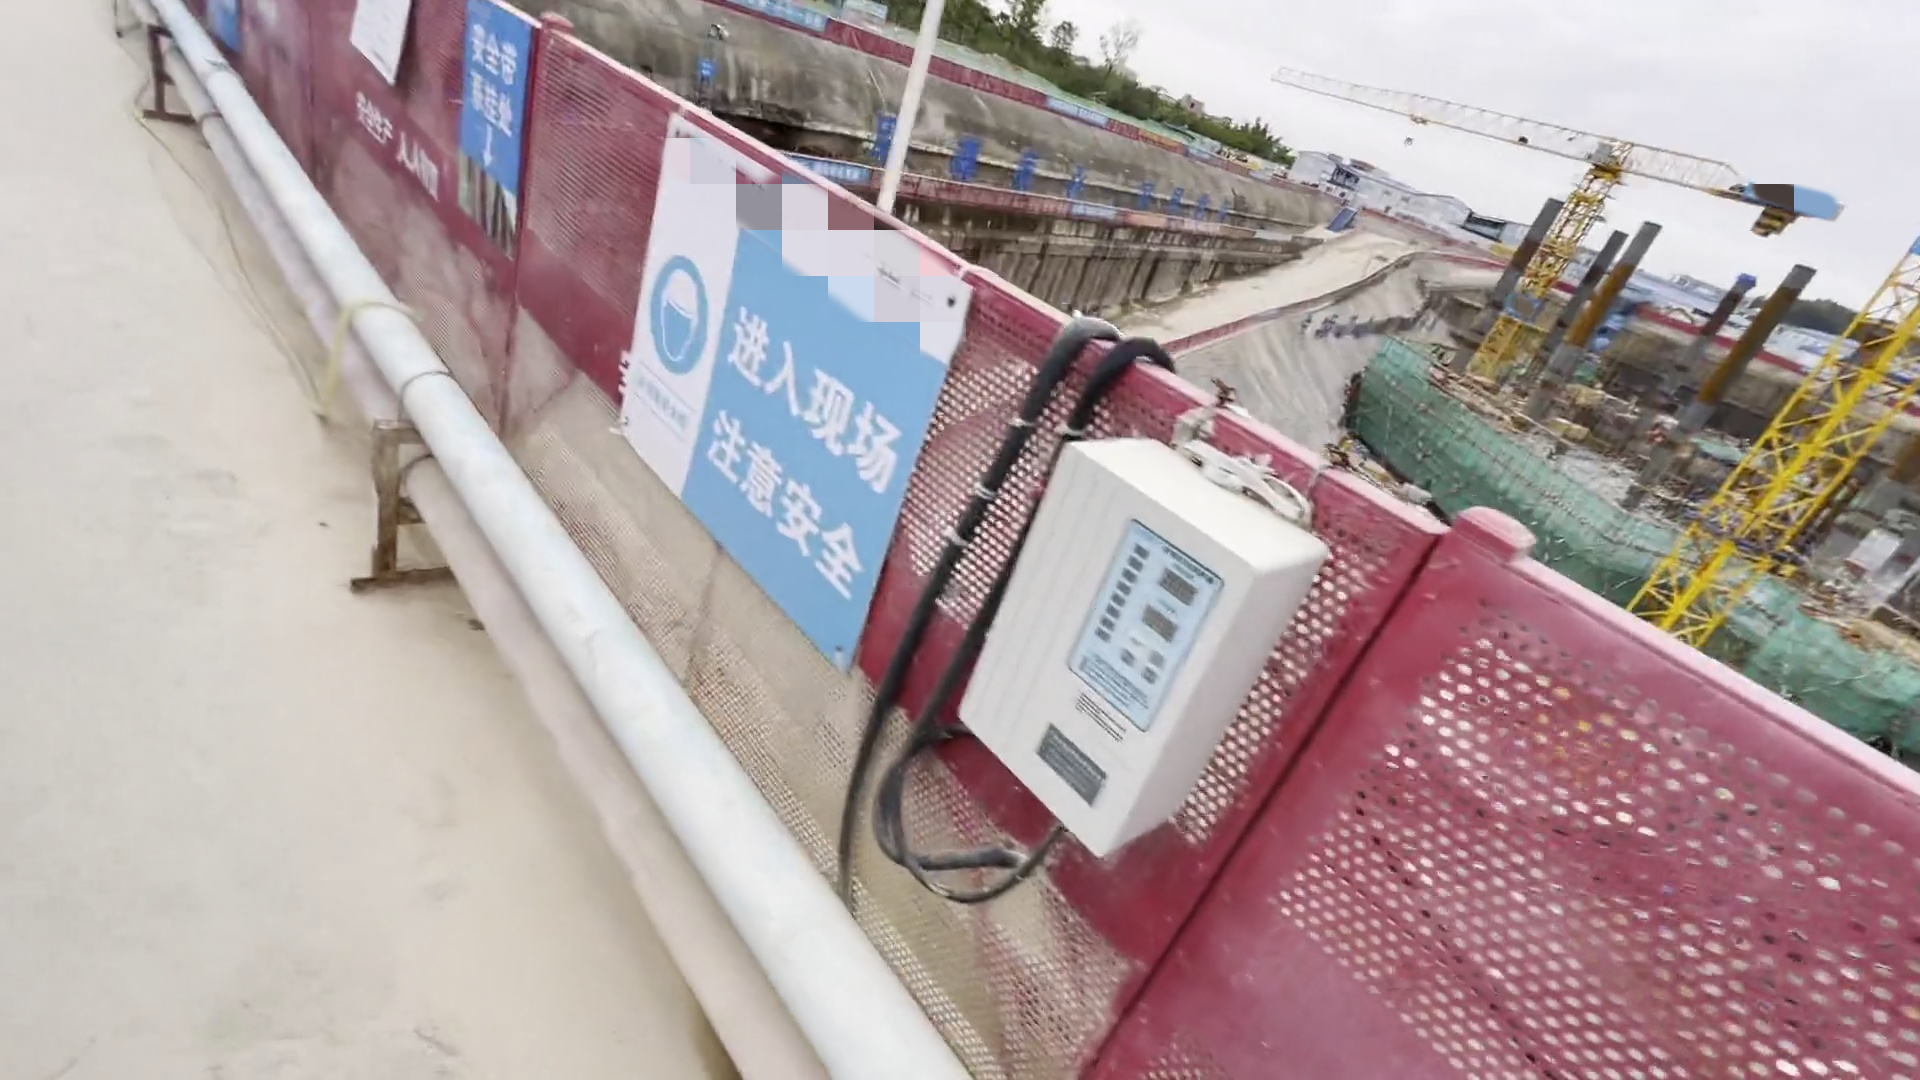fence: (282, 15, 1902, 1076)
slogan: (587, 99, 973, 644)
